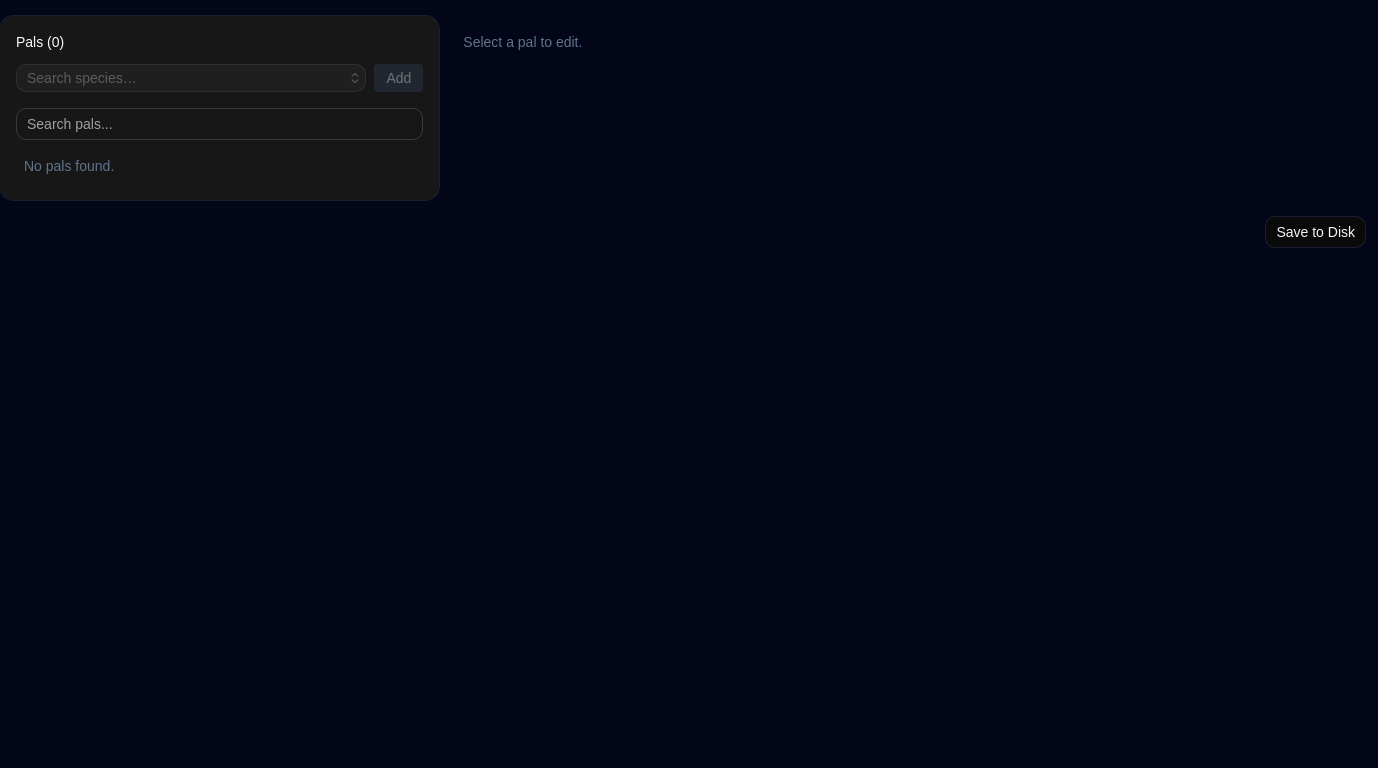
Test case: SavesPage commit feedback › shows an error toast with the failure detail when Save to Disk fails
The width and height of the screenshot is (1378, 768).
Click the button "Save to Disk": (1316,232) x1=1265 y1=216 x2=1366 y2=248
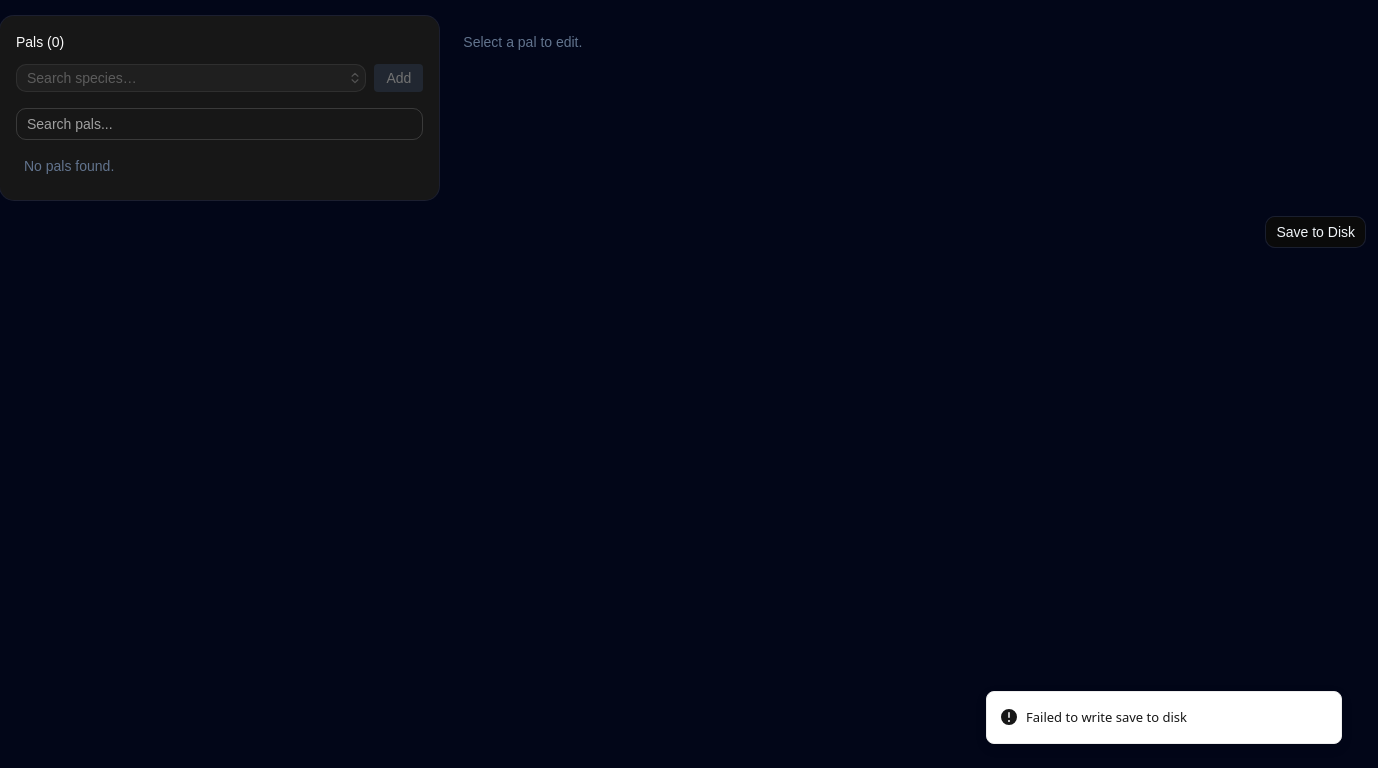
expect the text "Failed to write save to disk" is shown: met, box x1=1026 y1=708 x2=1187 y2=727
